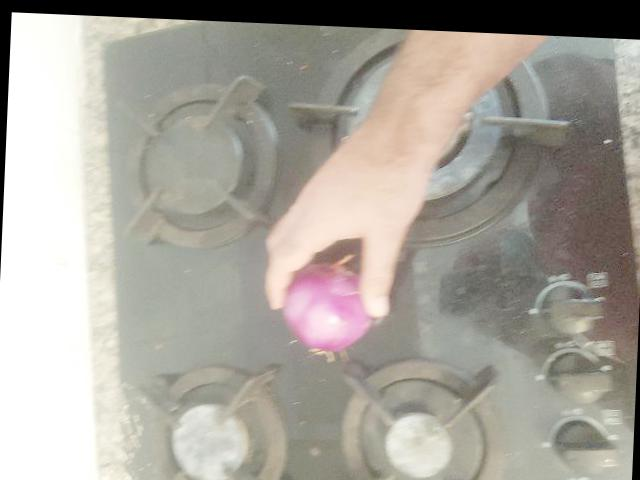onion: (280, 251, 381, 350)
